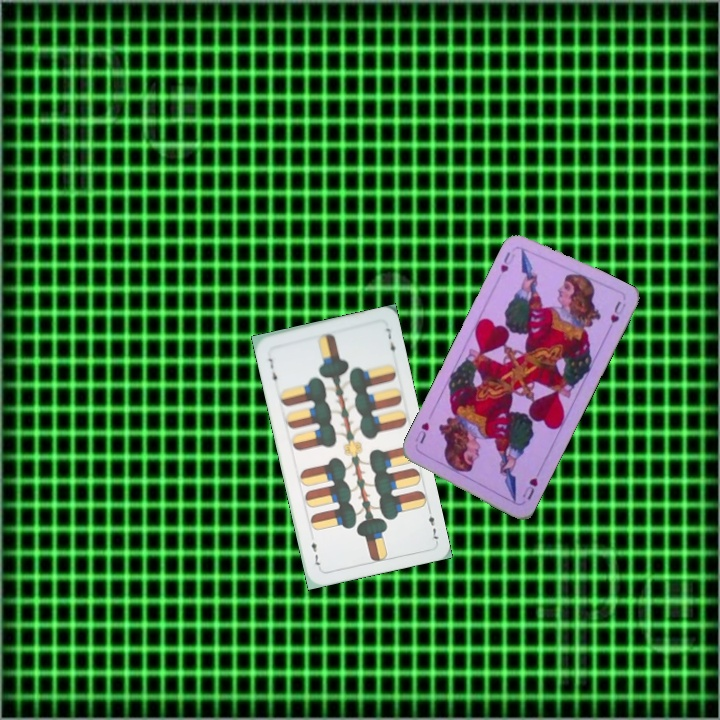E7: (424, 504, 441, 544), (263, 354, 280, 388)
HU: (518, 473, 541, 502), (496, 248, 518, 275)
